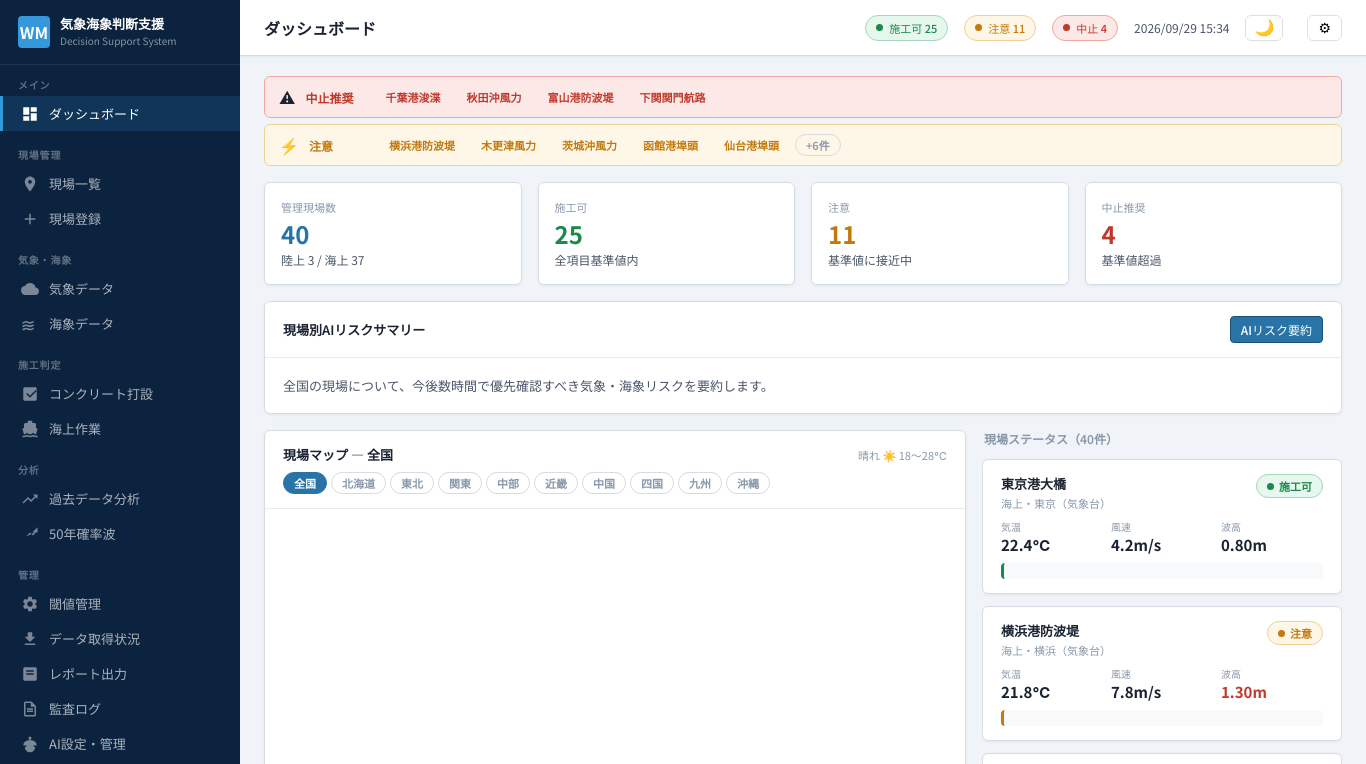
Scenario: AppShell — sidebar navigation › clicking a sidebar item navigates: 現場一覧 → header title 現場一覧 (or remains usable)
Click the element with class "sidebar-item" showing "現場一覧" at (61, 184), box [21,174,101,193]
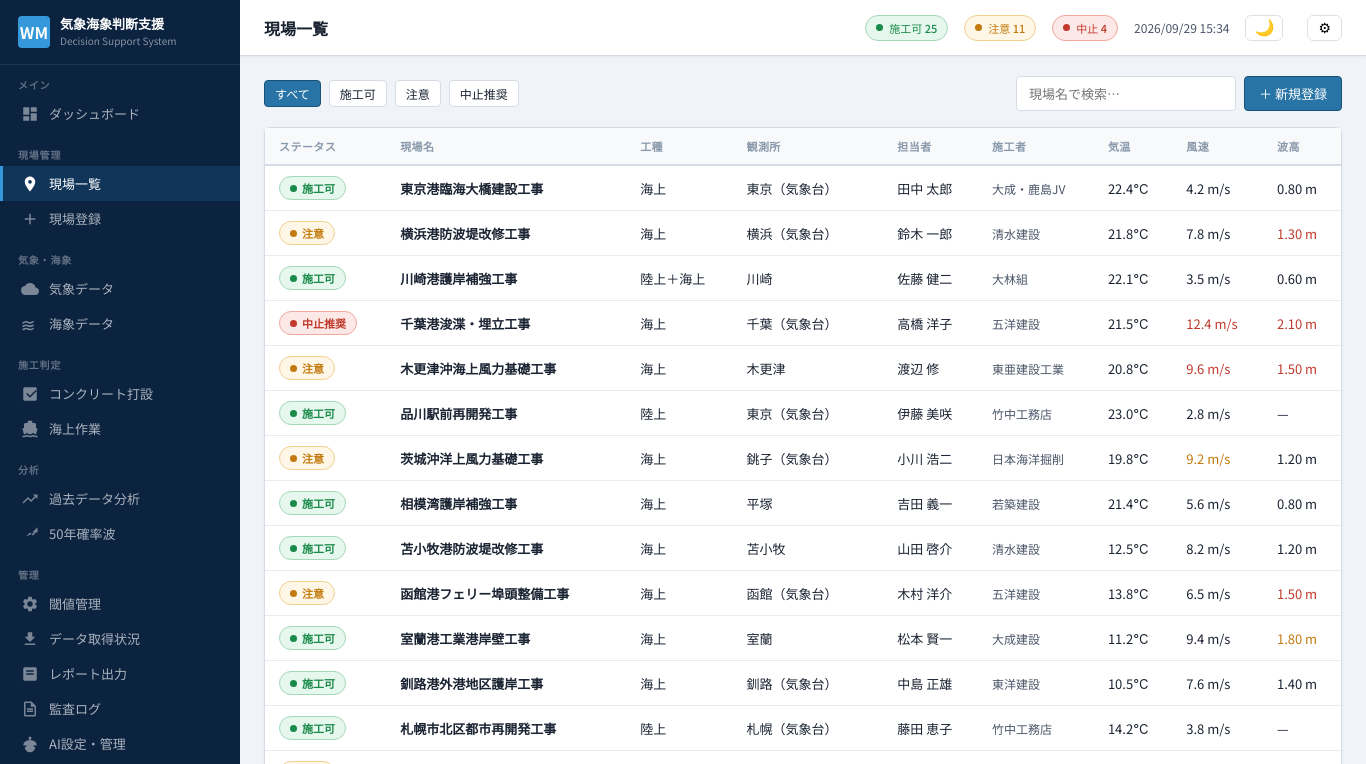
Expected: the text with class "header-title" reads "現場一覧", [264,16,328,40]
